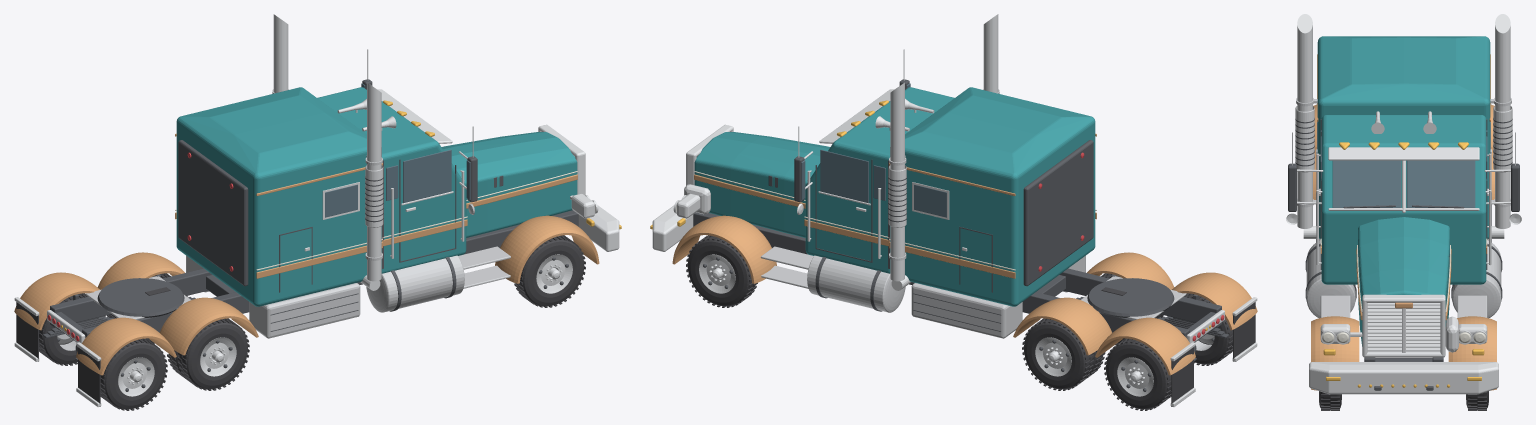
The model's file is caminhao_detalhado.glb.
3 views of the same model, side by side, from view 1: azimuth 30°, elevation 25°; view 2: azimuth 150°, elevation 25°; view 3: azimuth 270°, elevation 25° (orthographic). The views are drawn at different scales.
Parts seen in each view (by area): view 1: pintura, chassi, cobre, cromo, borracha, aluminio, vidro; view 2: pintura, chassi, cobre, cromo, borracha, aluminio, vidro; view 3: pintura, cromo, vidro, aluminio, cobre, chassi, borracha, ambar, farol, creme.
Part boxes in pixels (<box>): pintura: <box>176,87,577,306</box>; chassi: <box>43,79,578,391</box>; cobre: <box>14,133,599,375</box>; cromo: <box>14,14,619,406</box>; borracha: <box>16,235,585,410</box>; aluminio: <box>57,89,510,350</box>; vidro: <box>325,83,470,217</box>; pintura: <box>694,87,1095,306</box>; chassi: <box>693,79,1228,391</box>; cobre: <box>672,133,1257,375</box>; cromo: <box>652,14,1257,406</box>; borracha: <box>686,235,1255,410</box>; aluminio: <box>760,89,1214,350</box>; vidro: <box>801,83,946,217</box>; pintura: <box>1317,36,1490,346</box>; cromo: <box>1286,14,1521,394</box>; vidro: <box>1317,122,1490,207</box>; aluminio: <box>1296,98,1511,318</box>; cobre: <box>1311,54,1496,390</box>; chassi: <box>1288,118,1519,390</box>; borracha: <box>1319,391,1488,410</box>; ambar: <box>1323,142,1484,387</box>; farol: <box>1322,332,1485,342</box>; creme: <box>1320,238,1487,311</box>.
Bounding box in the file's own units: 8.74 × 4.35 × 3.17.
